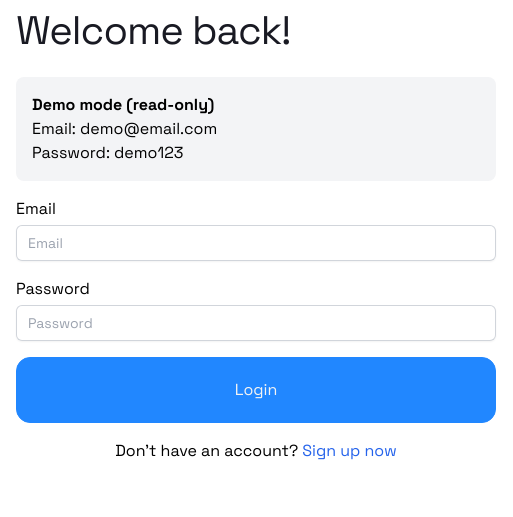
Test: LoginForm › displays error if incorrect password
This screenshot has width=513, height=517.
Note: enter credentials
Type "test@email.com" into the field with placeholder "Email" at point(256, 243), box [16, 225, 496, 261]
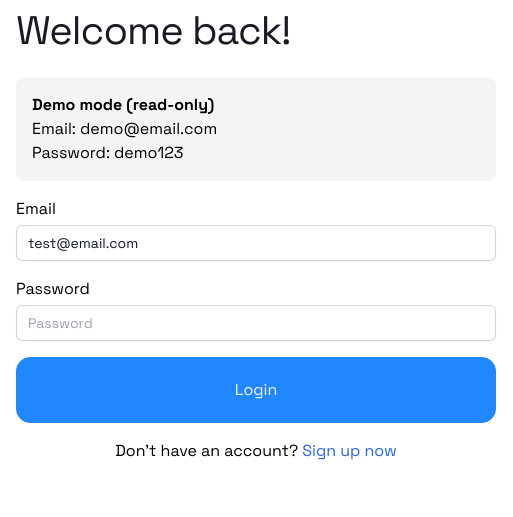
Type "password" into the password field with placeholder "Password" at point(256, 323), box [16, 305, 496, 341]
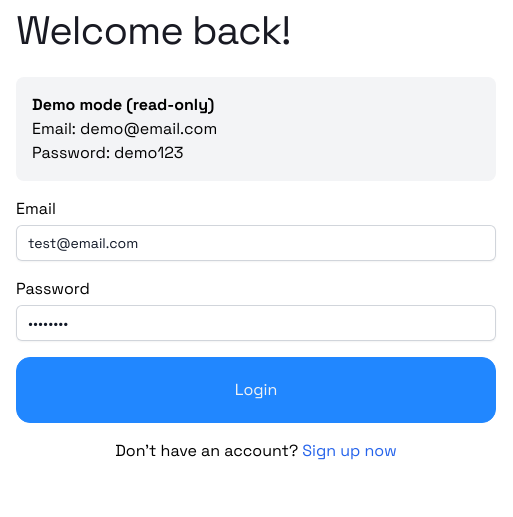
Click the button "Login" at point(256, 390), box [16, 357, 496, 423]
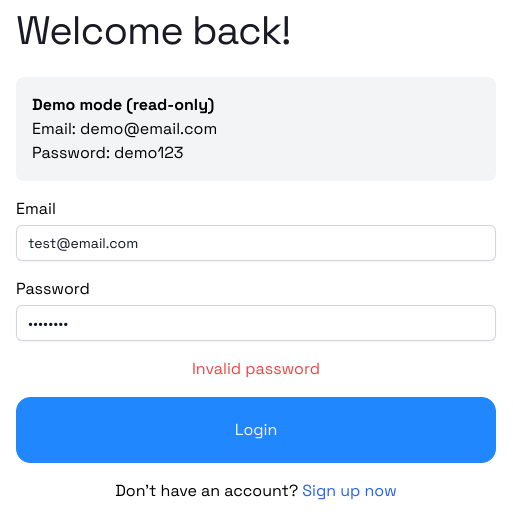
expect the text "Invalid password" is shown: met, box [192, 358, 320, 379]
